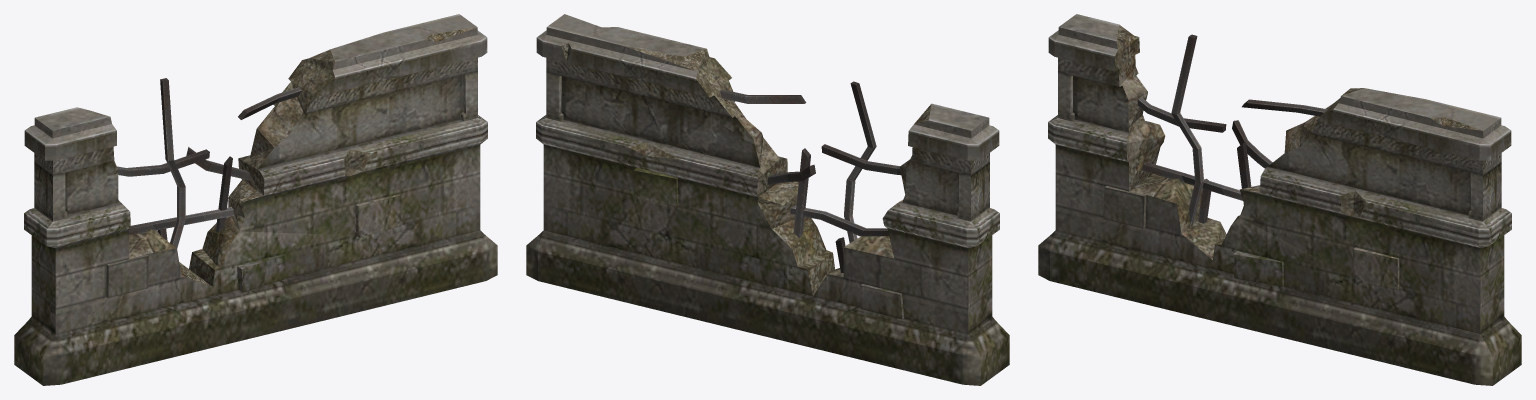
File: bg_anh_gvalley_cw02_sm_old.FBX
3 renders of one model, left to right at view 1: azimuth 30°, elevation 25°; view 2: azimuth 150°, elevation 25°; view 3: azimuth 330°, elevation 25°, orthographic.
Visible parts, largest first — view 1: bg_anh_gvalley_cw02_sm_old; view 2: bg_anh_gvalley_cw02_sm_old; view 3: bg_anh_gvalley_cw02_sm_old.
Boxes of the visible parts, x1=… form: bg_anh_gvalley_cw02_sm_old: x1=14, y1=14, x2=497, y2=385; bg_anh_gvalley_cw02_sm_old: x1=526, y1=14, x2=1009, y2=385; bg_anh_gvalley_cw02_sm_old: x1=1038, y1=14, x2=1521, y2=385.
Size of the model in its own units: 342 by 187 by 46.03.
